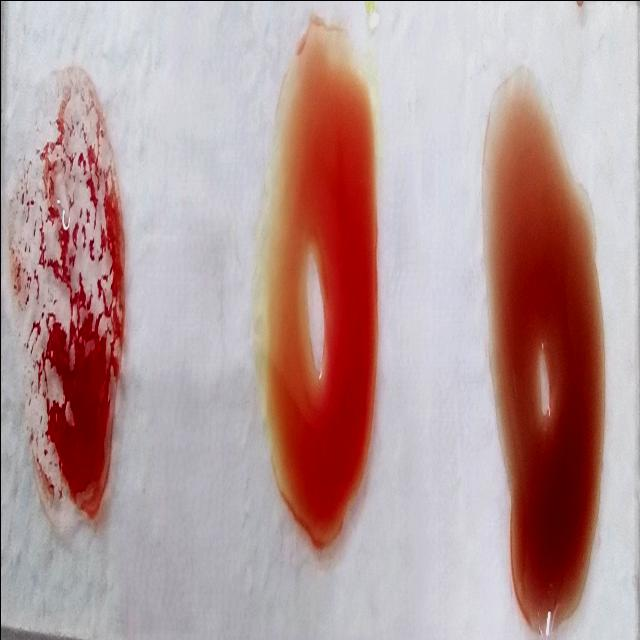D: (20, 87, 119, 518)
